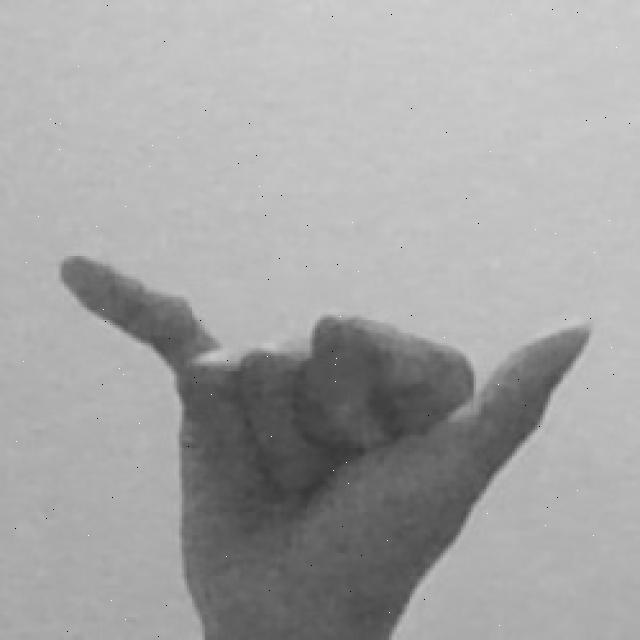Y: (50, 243, 602, 640)
